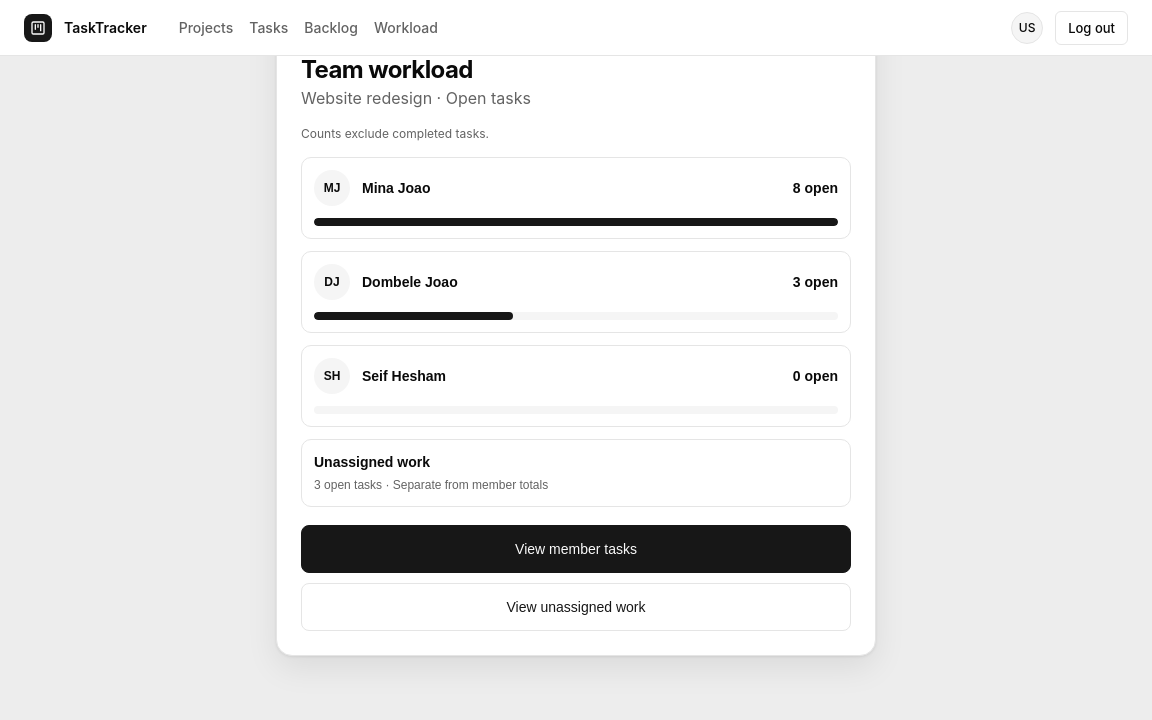
Scenario: [US-29] View Open Tasks by Member (T1WOR-168) › drills down into unassigned work and returns back to workload (State 03)
(page scrolled)
Note: Click "View unassigned work"
Step 1. Click the button with test id "workload-view-unassigned-btn" → (576,607), box [301,583,851,631]
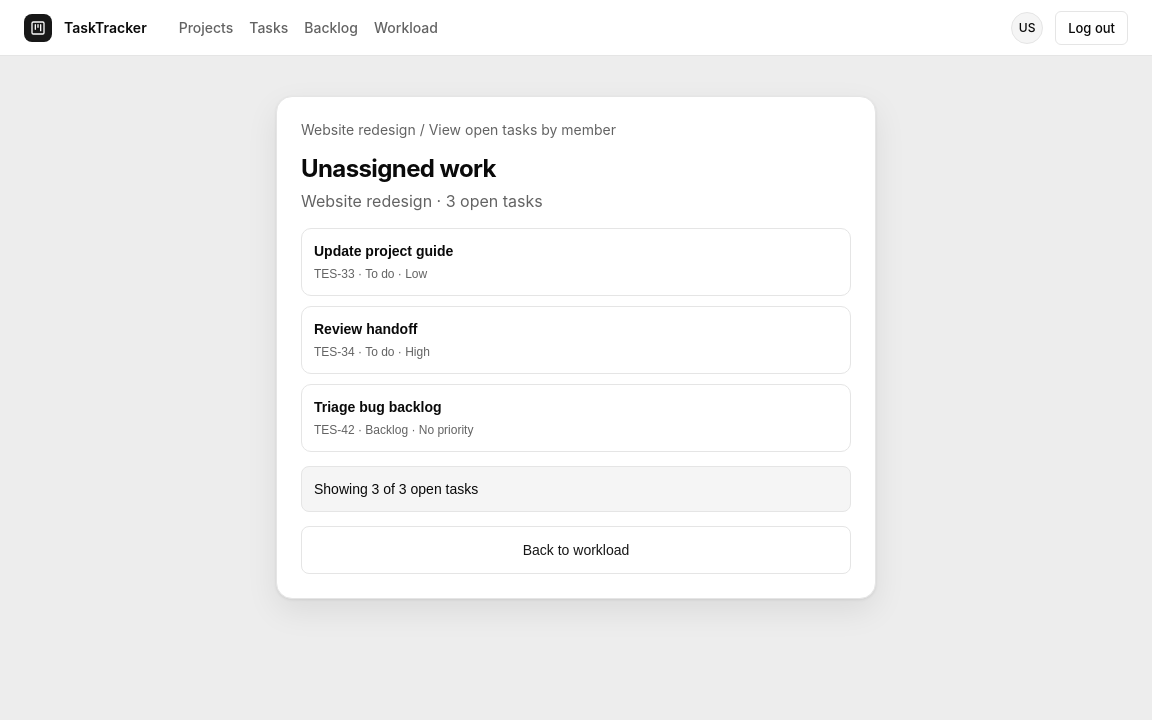
Check: the element with test id "workload-drilldown-view" is shown, box [301,153,851,574]
Check: the heading "Unassigned work" is shown, box [301,154,496,183]
Check: the text "Website redesign · 3 open tasks" is shown, box [301,191,543,211]
Note: Click Back to workload
Step 2. Click the button with test id "workload-back-btn" → (576,550), box [301,526,851,574]
(page scrolled)
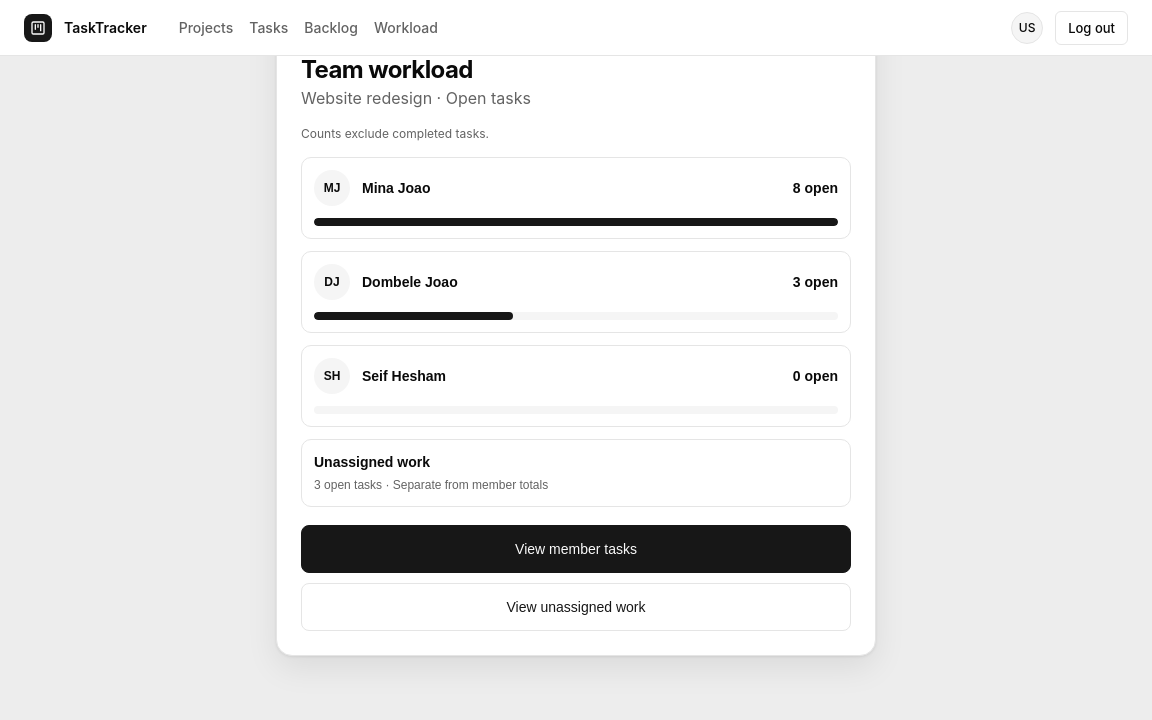
Check: the element with test id "workload-comparison-list" is shown, box [301,157,851,631]
